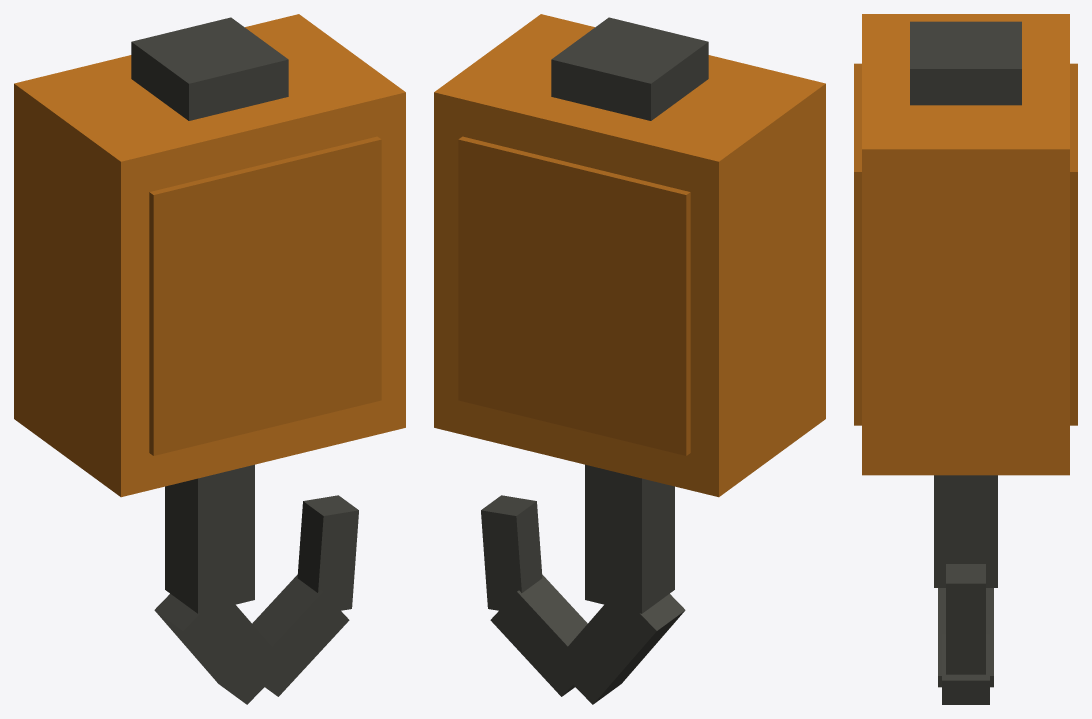
Rendered from crane_hook_01.glb.
The picture shows the model from 3 angles, left to right: view 1: azimuth 30°, elevation 25°; view 2: azimuth 150°, elevation 25°; view 3: azimuth 270°, elevation 25°; orthographic projection. The views are drawn at different scales.
Visible parts, largest first — view 1: CraneHook_01; view 2: CraneHook_01; view 3: CraneHook_01.
Boxes of the visible parts, box(x1,y1,x2,y2) form: CraneHook_01: box(14, 14, 405, 704); CraneHook_01: box(434, 14, 825, 704); CraneHook_01: box(854, 14, 1077, 704).
Size of the model in its own units: 0.4 by 0.8734 by 0.28.
